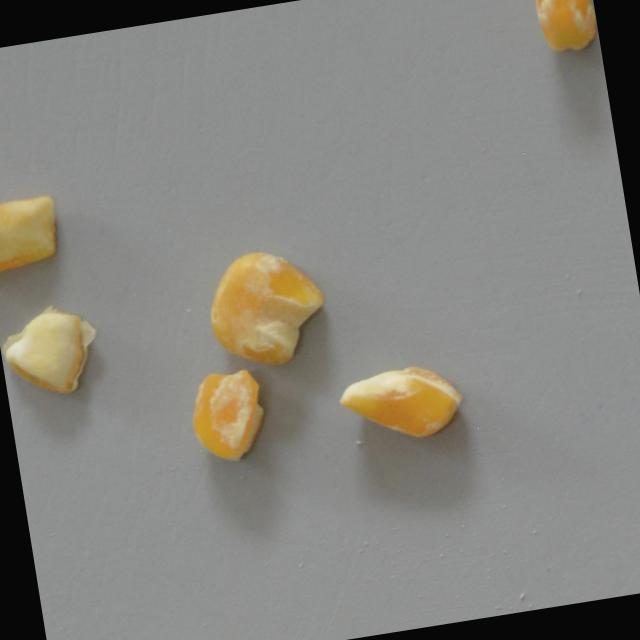estandar: (0, 190, 68, 275)
pelicula: (200, 246, 323, 371), (341, 348, 461, 448), (0, 300, 107, 403), (178, 362, 273, 471), (530, 0, 601, 58)
